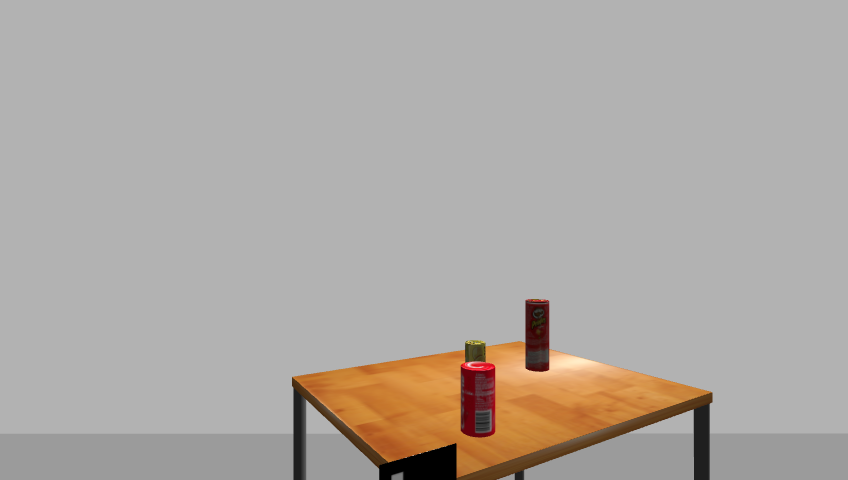aruco marker: (374, 444, 462, 480)
biscuits pack: (464, 339, 486, 368)
coke can: (458, 361, 497, 438)
dinner table: (283, 343, 722, 480)
pringles can: (522, 298, 552, 374)
